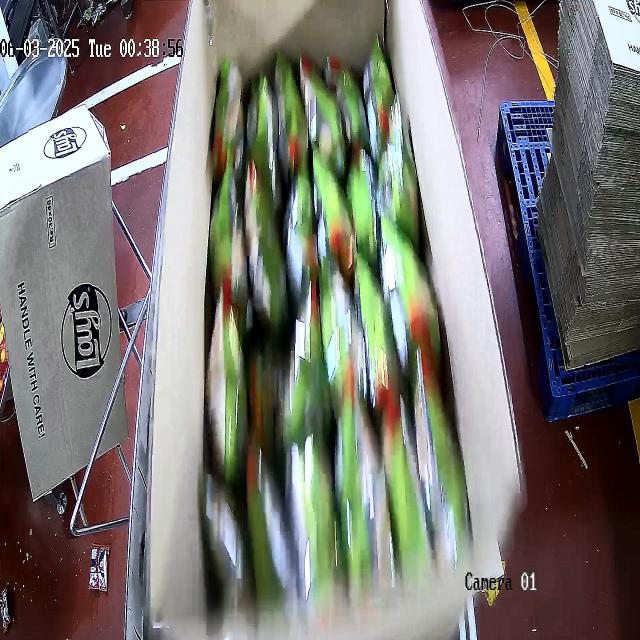YOGURT_HERB: (201, 6, 455, 589)
